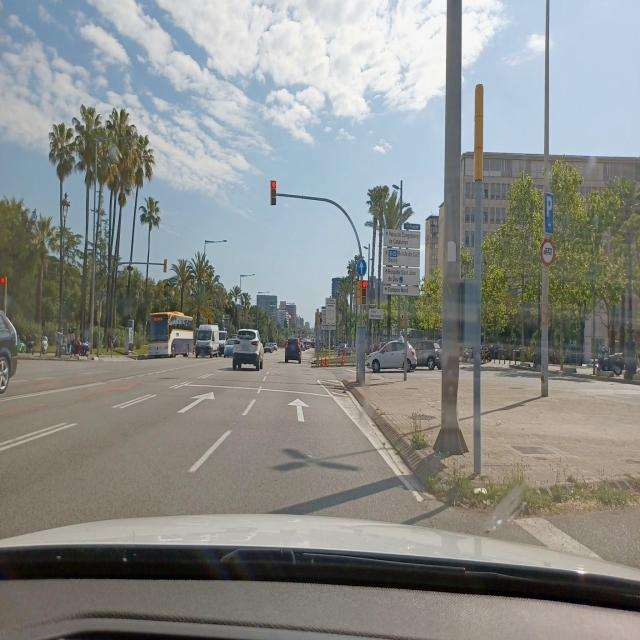car: (368, 336, 418, 374), (0, 303, 18, 397), (232, 327, 264, 371), (408, 338, 441, 369), (194, 324, 220, 358), (284, 338, 302, 363), (224, 337, 236, 357)
